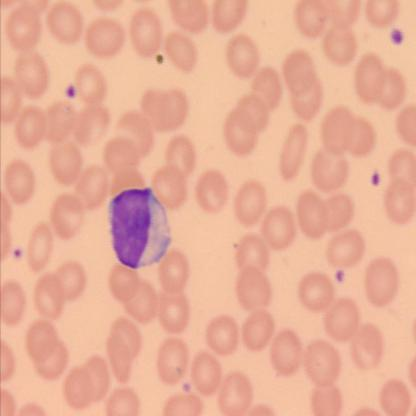Atypical lymphocyte: (110, 186, 171, 268)
